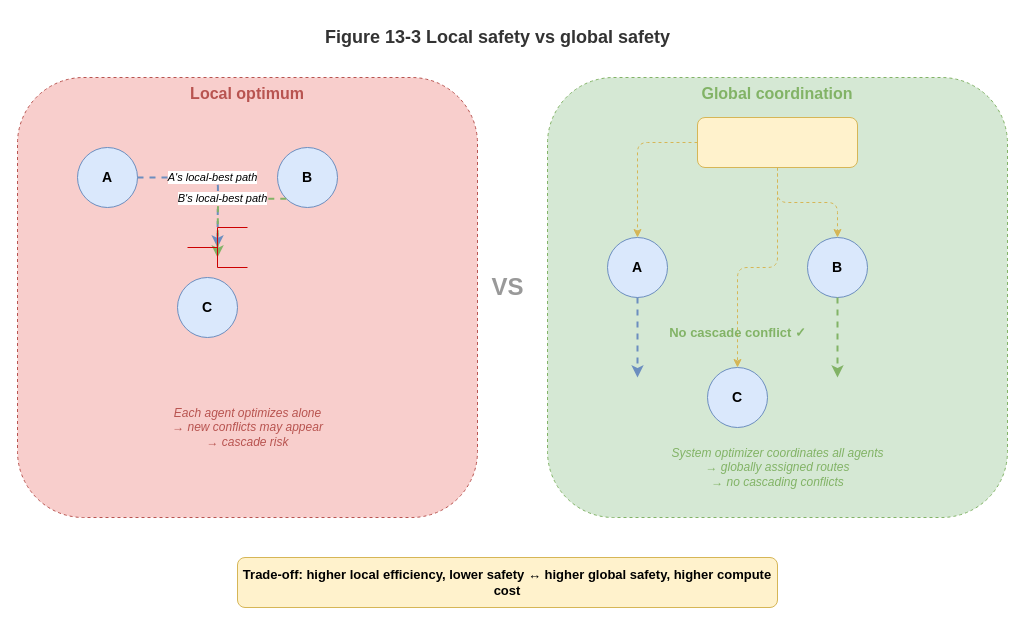
Some shapes in this 1025 by 625 pixel diagram are drawn without their labels. The centre of each missing label's shape, as x and y in pixels:
"New conflict!" belongs at [217,247].
"System-level optimizer" belongs at [777,142].
